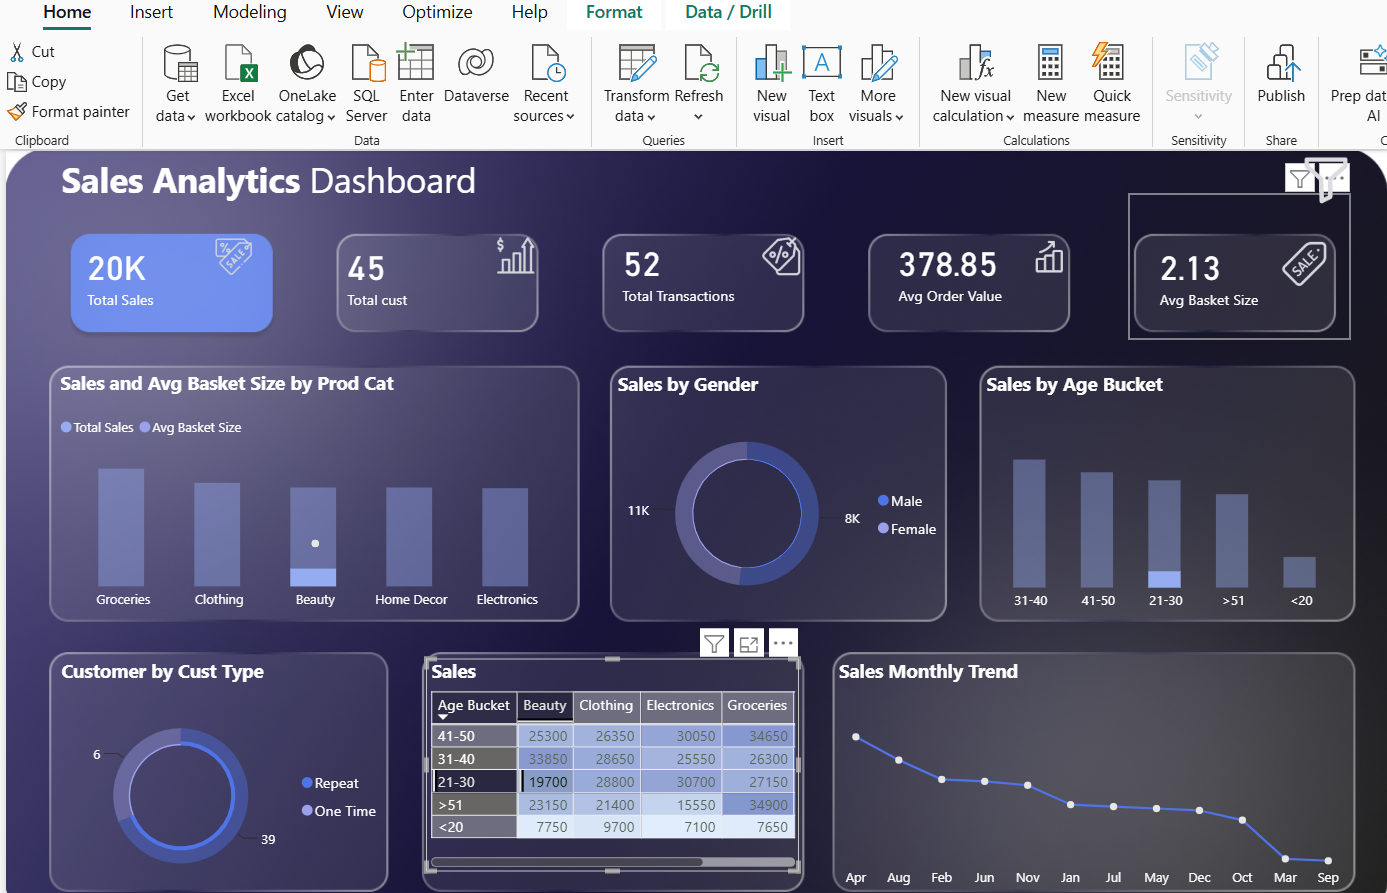

The page's visual inventory and layout, read from the dashboard file:
{"tool":"powerbi","page":{"name":"Page 1","canvas":[1280,720],"ordinal":0},"visuals":[{"type":"cardVisual","fields":{"Data":["Measure.Total Transactions"]},"box":[541.7,36.2,216,135.1],"z":0},{"type":"cardVisual","fields":{"Data":["Measure.Avg Order Value"]},"box":[797.5,36.2,209.9,135.1],"z":1000},{"type":"cardVisual","fields":{"Data":["Measure.Avg Basket Size"]},"box":[1038.7,39.8,206.3,135.1],"z":2000},{"type":"lineClusteredColumnComboChart","title":" Sales and Avg Basket Size by Prod Cat","fields":{"Y":["Measure.Total Sales"],"Y2":["Measure.Avg Basket Size"],"Category":["retail_sales.Product Category"]},"box":[45,202.6,482.6,230.4],"z":3000},{"type":"donutChart","title":" Sales by Gender","fields":{"Y":["Measure.Total Sales"],"Category":["retail_sales.Gender"]},"box":[561,203.9,314.9,230.4],"z":4000},{"type":"columnChart","title":"Sales by Age Bucket","fields":{"Category":["retail_sales.Age Bucket"],"Y":["Measure.Total Sales"]},"box":[902.4,203.9,342.6,230.4],"z":5000},{"type":"donutChart","title":"Customer by Cust Type","fields":{"Category":["Customer Type.Cust Type"],"Y":["CountNonNull(Customer Type.Customer ID)"]},"box":[45.8,469.3,311.3,220.8],"z":6000},{"type":"pivotTable","title":"Sales","fields":{"Rows":["retail_sales.Age Bucket"],"Columns":["retail_sales.Product Category"],"Values":["Measure.Total Sales"]},"box":[388.5,469.3,346.2,197.9],"z":7000},{"type":"lineChart","title":"Sales Monthly Trend","fields":{"Category":["retail_sales.Month"],"Y":["Measure.Total Sales"]},"box":[766.1,469.3,479,220.8],"z":8000},{"type":"cardVisual","fields":{"Data":["Measure.Total cust"]},"box":[287.1,31.4,219.6,143.6],"z":9000},{"type":"cardVisual","fields":{"Data":["Measure.Total Sales"]},"box":[45.8,31.4,231.6,143.6],"z":10000},{"type":"image","title":"OPEN slicer","box":[1198.3,0,46.8,51.9],"z":13000},{"type":"textbox","box":[45.8,0,604.4,67.6],"z":15000},{"type":"image","box":[1181.1,83.2,41,42.2],"z":16000},{"type":"image","box":[435.5,79.6,71.2,33.8],"z":17000},{"type":"image","box":[699.7,79.6,35,35],"z":18000},{"type":"image","box":[936.2,80.8,59.1,33.8],"z":19000},{"type":"image","box":[184.6,80.8,50.7,33.8],"z":20000}]}

Visuals, with their boxes on the page's 1280x720 design canvas (x1, y1, x2, y2). These are canvas units, not pixel positions in the 1387x893 screenshot, which may show the page scaled, cropped or inside an application window:
cardVisual - Measure.Total Transactions: BBox(542, 36, 758, 171)
cardVisual - Measure.Avg Order Value: BBox(798, 36, 1007, 171)
cardVisual - Measure.Avg Basket Size: BBox(1039, 40, 1245, 175)
" Sales and Avg Basket Size by Prod Cat" lineClusteredColumnComboChart: BBox(45, 203, 528, 433)
" Sales by Gender" donutChart: BBox(561, 204, 876, 434)
"Sales by Age Bucket" columnChart: BBox(902, 204, 1245, 434)
"Customer by Cust Type" donutChart: BBox(46, 469, 357, 690)
"Sales" pivotTable: BBox(388, 469, 735, 667)
"Sales Monthly Trend" lineChart: BBox(766, 469, 1245, 690)
cardVisual - Measure.Total cust: BBox(287, 31, 507, 175)
cardVisual - Measure.Total Sales: BBox(46, 31, 277, 175)
"OPEN slicer" image: BBox(1198, 0, 1245, 52)
textbox: BBox(46, 0, 650, 68)
image: BBox(1181, 83, 1222, 125)
image: BBox(436, 80, 507, 113)
image: BBox(700, 80, 735, 115)
image: BBox(936, 81, 995, 115)
image: BBox(185, 81, 235, 115)
